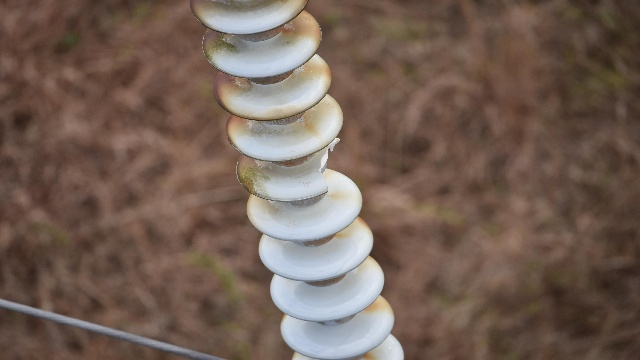broken_local: (315, 135, 345, 192)
insulator_unspecified: (189, 1, 408, 359)
